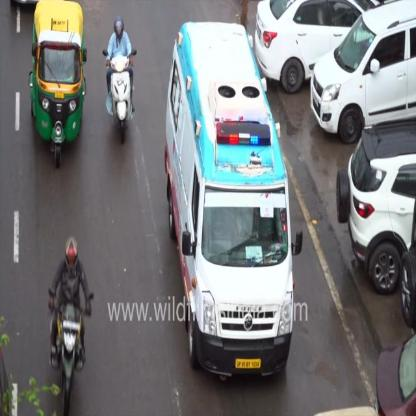auto-rikshaw: (28, 0, 87, 168)
bike: (48, 290, 94, 414), (101, 46, 136, 144)
car: (163, 20, 303, 382), (310, 0, 414, 144), (336, 116, 414, 296), (254, 1, 378, 96)
